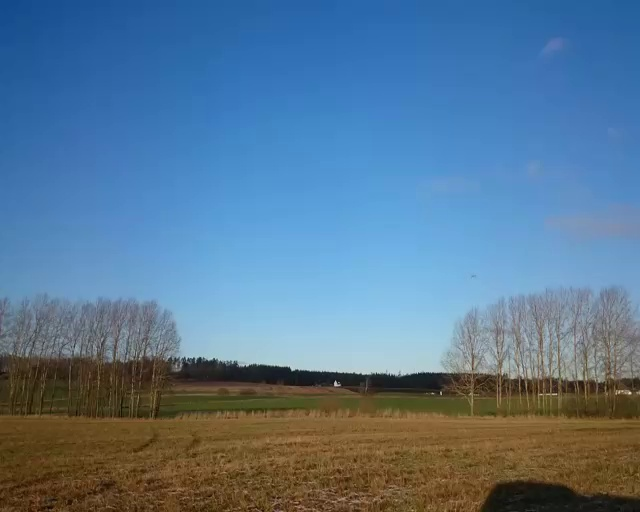DRONE: (470, 273, 478, 278)
